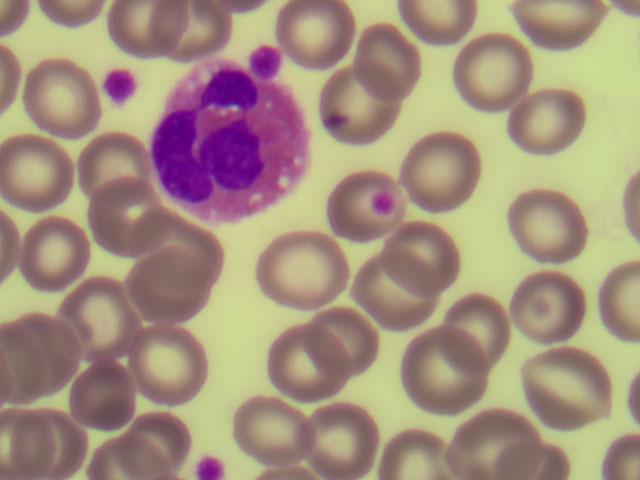Platelets: (103, 63, 138, 108), (253, 45, 281, 78), (195, 456, 227, 480)
RBC: (348, 245, 430, 342), (19, 56, 100, 141), (16, 215, 97, 300), (72, 123, 153, 208), (81, 163, 162, 248), (126, 246, 207, 331), (58, 275, 139, 360), (62, 348, 143, 433), (124, 323, 205, 408), (116, 392, 197, 477), (233, 387, 314, 472), (258, 322, 339, 407), (299, 301, 380, 386), (263, 228, 344, 313), (328, 164, 409, 249), (403, 329, 484, 414), (431, 290, 512, 375), (456, 395, 537, 480), (307, 395, 388, 480), (526, 340, 607, 425), (498, 266, 579, 351), (508, 187, 589, 272), (406, 129, 487, 214), (499, 87, 580, 172), (454, 28, 535, 113), (360, 23, 441, 108), (320, 59, 401, 144), (275, 3, 356, 88), (1, 130, 81, 215), (1, 315, 81, 400), (384, 217, 459, 296), (1, 408, 82, 479), (104, 1, 186, 64), (519, 1, 601, 64)
WBC: (148, 60, 316, 224)
